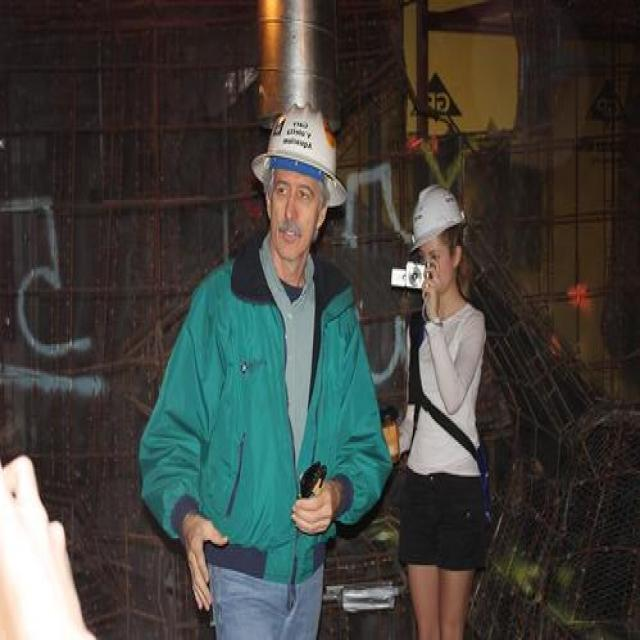Safety-Helmet: (248, 94, 352, 208), (402, 175, 474, 257)
